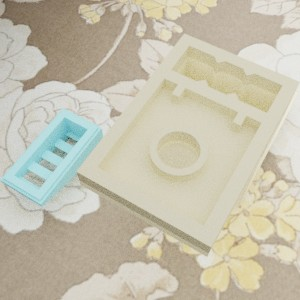lego: (76, 33, 300, 257), (0, 108, 104, 207)
